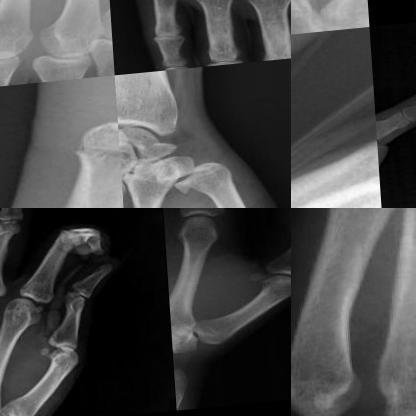fracture: (367, 208, 415, 322), (61, 138, 118, 195), (167, 174, 208, 204), (372, 120, 383, 155)
